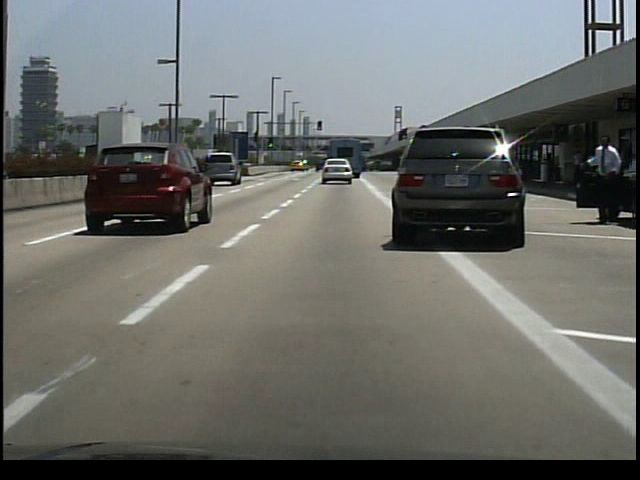person: (578, 132, 620, 226)
